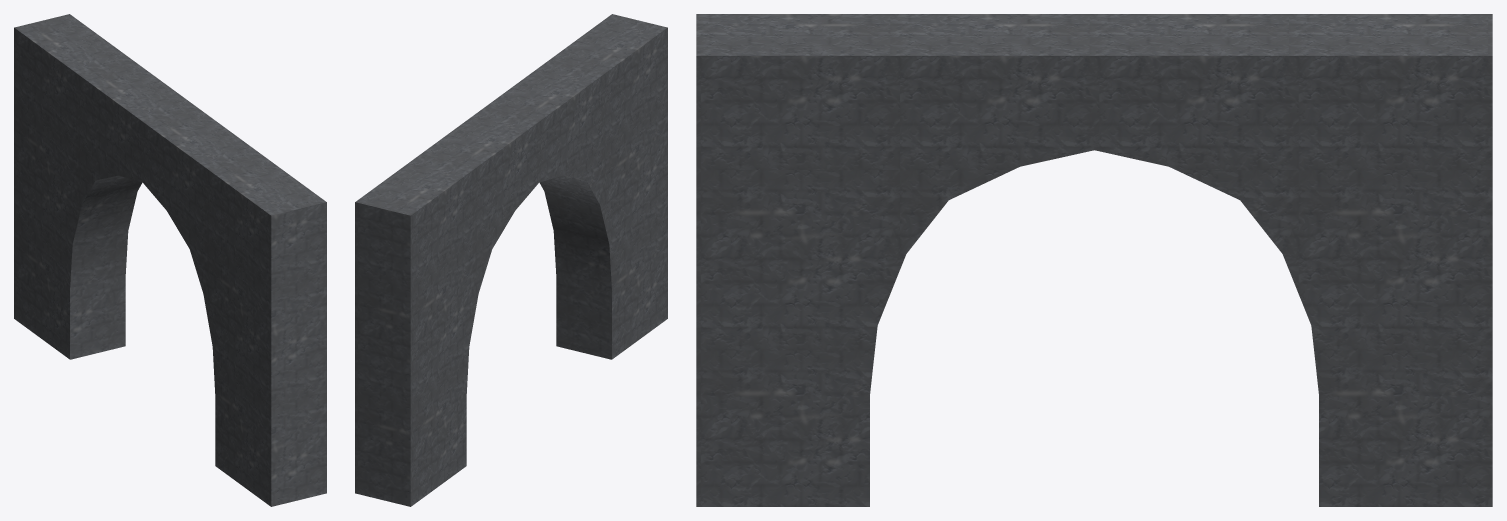
The model's file is ArchWall_8m_5_1m.fbx.
3 renders of one model, left to right at view 1: azimuth 30°, elevation 25°; view 2: azimuth 150°, elevation 25°; view 3: azimuth 270°, elevation 25°, orthographic. The views are drawn at different scales.
Parts seen in each view (by area): view 1: ArchWall_8m_5_1m; view 2: ArchWall_8m_5_1m; view 3: ArchWall_8m_5_1m.
Part boxes in pixels (x1,y1,x2,y2): ArchWall_8m_5_1m: [14, 14, 326, 506]; ArchWall_8m_5_1m: [355, 14, 667, 506]; ArchWall_8m_5_1m: [696, 14, 1492, 506].
Size of the model in its own units: 100 by 500 by 800.
